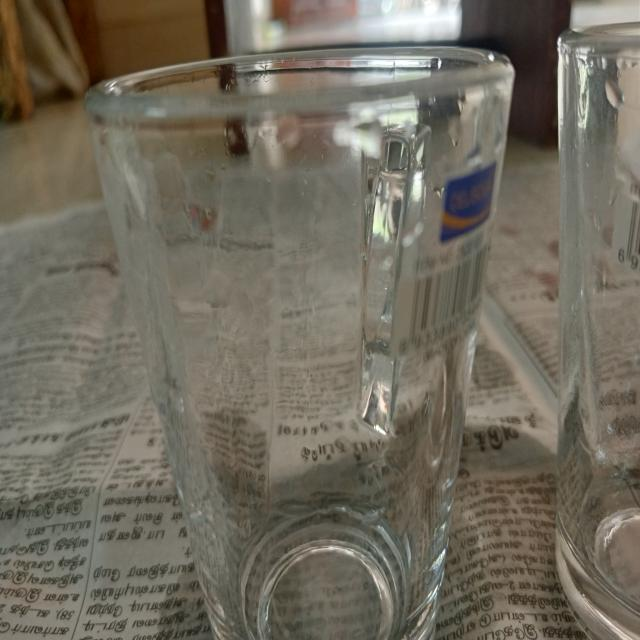glass-VX4N: (86, 46, 517, 640), (557, 23, 640, 640)
